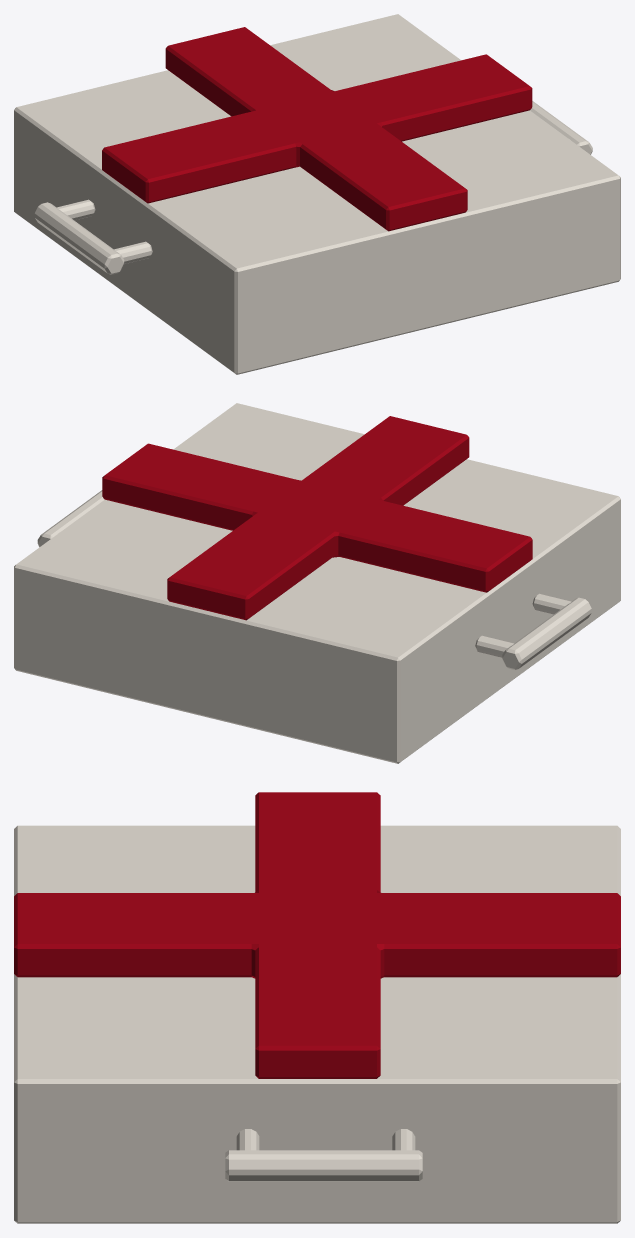
Rendered from MedPack.fbx.
3 renders of one model, top to bottom at view 1: azimuth 30°, elevation 25°; view 2: azimuth 150°, elevation 25°; view 3: azimuth 270°, elevation 25°, orthographic. The views are drawn at different scales.
Visible parts, largest first — view 1: MedPack; view 2: MedPack; view 3: MedPack.
Part boxes in pixels (bbox=[...]): MedPack: bbox=[14, 14, 620, 374]; MedPack: bbox=[14, 403, 620, 763]; MedPack: bbox=[14, 792, 620, 1223].
Size of the model in its own units: 0.6288 by 0.1618 by 0.5.
